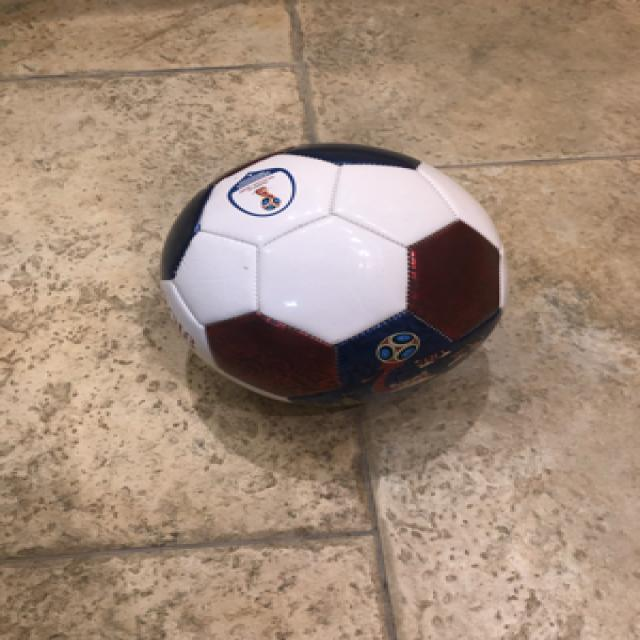soccer_ball: (155, 141, 508, 408)
